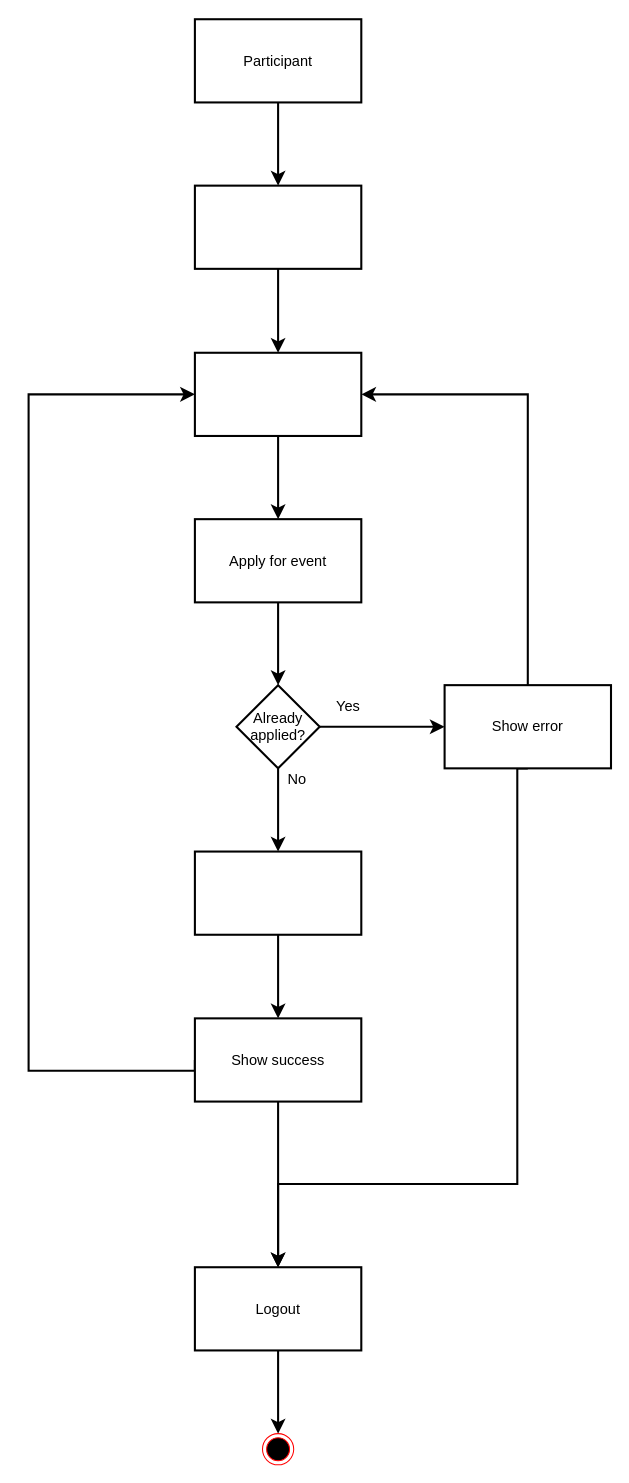
This 629x1483 diagram has some shape labels left out. The shapes that lost their labels are listed below. From the top down, each one's centre as x and y in pixels, then its label:
At point (277, 226): "Homepage".
At point (277, 393): "View event page".
At point (277, 892): "Create application".
